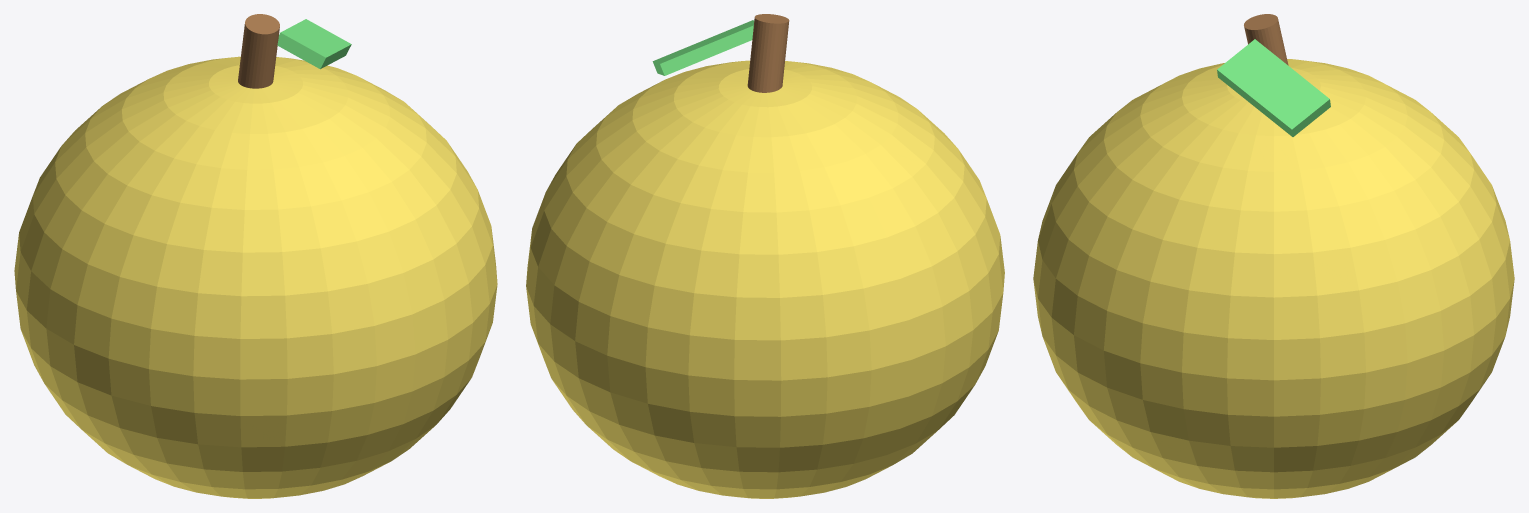
Rendered from golden_apple.glb.
3 views of the same model, side by side, from view 1: azimuth 30°, elevation 25°; view 2: azimuth 150°, elevation 25°; view 3: azimuth 270°, elevation 25° (orthographic).
Parts seen in each view (by area): view 1: Sphere, Cylinder, Cube; view 2: Sphere, Cylinder, Cube; view 3: Sphere, Cube, Cylinder.
Boxes of the visible parts, x1,y1,x2,y2 form: Sphere: (14, 56, 497, 498); Cylinder: (238, 14, 279, 88); Cube: (277, 19, 351, 69); Sphere: (526, 60, 1004, 498); Cylinder: (747, 14, 789, 92); Cube: (652, 20, 754, 75); Sphere: (1033, 59, 1514, 498); Cube: (1217, 39, 1330, 136); Cylinder: (1244, 14, 1288, 65).
Bounding box in the file's own units: 1.1 × 1.15 × 1.1.
